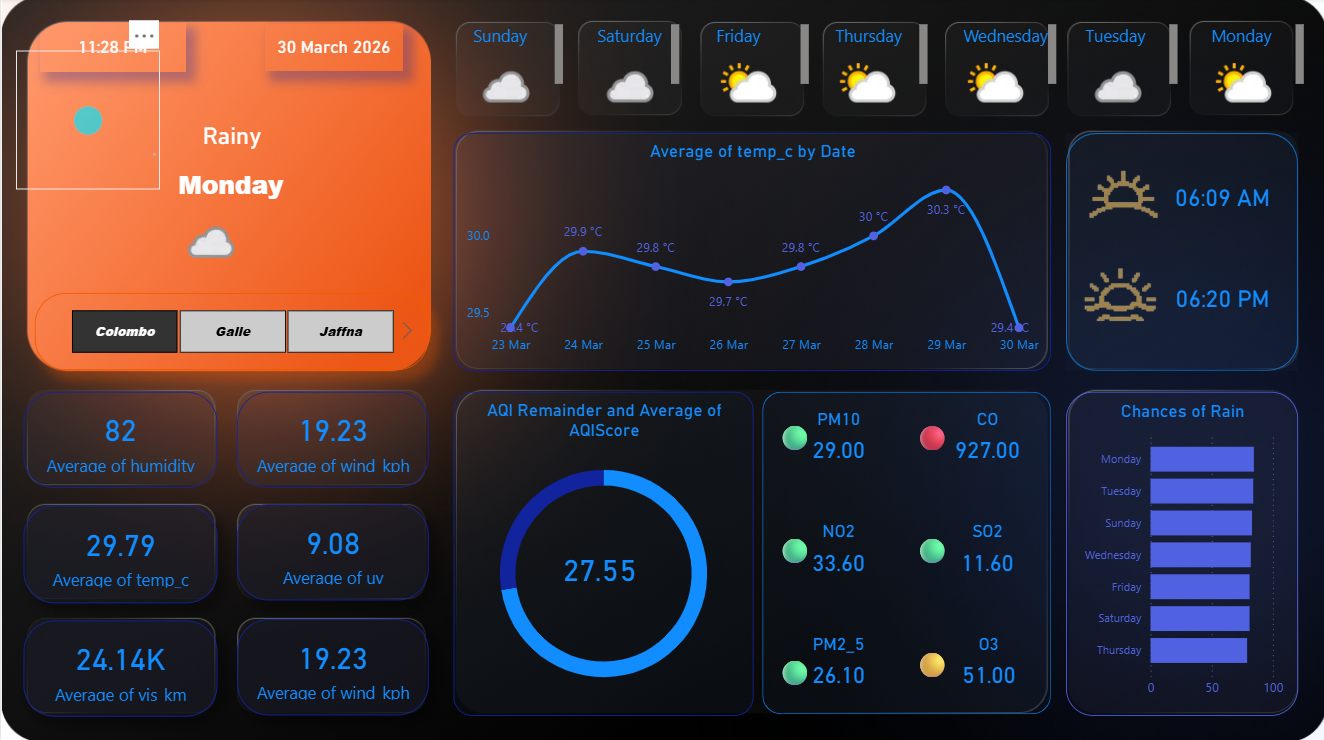

This screenshot's page, from the dashboard's own definition file:
{"tool":"powerbi","page":{"name":"Page 1","canvas":[1280,720],"ordinal":0},"visuals":[{"type":"card","fields":{"Values":["Avg(Query1.humidity)"]},"box":[21.7,380,183.4,92.9],"z":0},{"type":"card","fields":{"Values":["Avg(Query1.temp_c)"]},"box":[21.7,488.6,183.4,94.1],"z":1000},{"type":"card","fields":{"Values":["Avg(Query1.wind_kph)"]},"box":[228,380,183.4,92.9],"z":2000},{"type":"card","fields":{"Values":["Avg(Query1.uv)"]},"box":[228,488.6,183.4,92.9],"z":3000},{"type":"card","fields":{"Values":["Avg(Query1.wind_kph)"]},"box":[228,599.6,183.4,92.9],"z":4000},{"type":"card","fields":{"Values":["Avg(Query1.vis_km)"]},"box":[21.7,597.2,183.4,94.1],"z":5000},{"type":"slicer","fields":{"Values":["Query1.City"]},"box":[31.4,285.9,380,74.8],"z":6000},{"type":"multiRowCard","fields":{"Values":["Query1.DayName","Query1.IconURL","Avg(Query1.temp_c)"]},"box":[451.1,20.6,96.3,97.6],"z":7000},{"type":"multiRowCard","fields":{"Values":["Query1.DayName","Query1.IconURL","Avg(Query1.temp_c)"]},"box":[570.7,20.6,89.4,97.6],"z":8000},{"type":"multiRowCard","fields":{"Values":["Query1.DayName","Query1.IconURL","Avg(Query1.temp_c)"]},"box":[684.8,20.6,99,97.6],"z":9000},{"type":"multiRowCard","fields":{"Values":["Query1.DayName","Query1.IconURL","Avg(Query1.temp_c)"]},"box":[800.3,20.6,99,97.6],"z":10000},{"type":"multiRowCard","fields":{"Values":["Query1.DayName","Query1.IconURL","Avg(Query1.temp_c)"]},"box":[924.1,20.6,99,97.6],"z":11000},{"type":"multiRowCard","fields":{"Values":["Query1.DayName","Query1.IconURL","Avg(Query1.temp_c)"]},"box":[1041,20.6,99,97.6],"z":12000},{"type":"multiRowCard","fields":{"Values":["Query1.DayName","Query1.IconURL","Avg(Query1.temp_c)"]},"box":[1163.4,20.6,99,97.6],"z":13000},{"type":"lineChart","fields":{"Category":["Query1.Date"],"Y":["Avg(Query1.temp_c)"]},"box":[442.4,126.6,570.4,233.7],"z":14000},{"type":"card","fields":{"Values":["ForecastTable.Live Time"]},"box":[21.7,21.7,140.7,47.4],"z":15000},{"type":"card","fields":{"Values":["ForecastTable.Live Date"]},"box":[276.1,20.3,134,46],"z":16000},{"type":"multiRowCard","fields":{"Values":["Query1.DayName","Query1.IconURL"]},"box":[165.3,150.8,112.2,125.5],"z":17000},{"type":"clusteredBarChart","title":"Chances of Rain","fields":{"Category":["Query1.DayName"],"Y":["Avg(Query1.humidity)"]},"box":[1028.2,379.8,224,313],"z":18000},{"type":"shape","box":[1028.2,126.6,224,233.7],"z":19000},{"type":"image","box":[1013.7,150.2,138,83.9],"z":20000},{"type":"image","box":[1013.7,247.7,138,83.9],"z":21000},{"type":"card","fields":{"Values":["Min(Query1.Sunrise)"]},"box":[1117.9,158.3,121.8,67.7],"z":22000},{"type":"card","fields":{"Values":["Min(Query1.Sunset)"]},"box":[1117.9,255.8,121.8,67.7],"z":23000},{"type":"donutChart","fields":{"Y":["Query1.AQI Remainder","Avg(Query1.AQIScore)"]},"box":[442.8,380,284.7,312.5],"z":24000},{"type":"card","fields":{"Values":["Avg(Query1.AQIScore)"]},"box":[516.4,520,137.5,94.1],"z":25000},{"type":"card","title":"CO","fields":{"Values":["Avg(Query1.CO)"]},"box":[910.8,395.2,82.6,62.3],"z":26000},{"type":"card","fields":{"Values":["ForecastTable.CO Dot"]},"box":[877,403.3,44.7,46],"z":27000},{"type":"card","fields":{"Values":["ForecastTable.PM10 Dot"]},"box":[744.3,403.3,44.7,46],"z":28000},{"type":"card","title":"NO2","fields":{"Values":["Avg(Query1.NO2)"]},"box":[767.4,504.8,82.6,62.3],"z":29000},{"type":"card","title":"PM2_5","fields":{"Values":["Avg(Query1.PM2_5)"]},"box":[767.4,613.1,82.6,62.3],"z":30000},{"type":"card","title":"SO2","fields":{"Values":["Avg(Query1.SO2)"]},"box":[910.8,504.8,82.6,62.3],"z":31000},{"type":"card","title":"O3","fields":{"Values":["Sum(Query1.O3)"]},"box":[912.2,613.1,82.6,62.3],"z":32000},{"type":"card","title":"PM10","fields":{"Values":["Avg(Query1.PM10)"]},"box":[767.4,395.2,82.6,62.3],"z":33000},{"type":"card","fields":{"Values":["ForecastTable.O3 Dot"]},"box":[877,621.2,44.7,46],"z":34000},{"type":"card","fields":{"Values":["ForecastTable.PM2.5 Dot"]},"box":[744.3,629.3,44.7,46],"z":35000},{"type":"card","fields":{"Values":["ForecastTable.SO2 Dot"]},"box":[877,511.6,44.7,46],"z":36000},{"type":"card","fields":{"Values":["ForecastTable.NO2 Dot"]},"box":[744.3,511.6,44.7,46],"z":37000},{"type":"shape","box":[734.7,380,278.7,311.3],"z":38000},{"type":"card","fields":{"Values":["Min(Query1.Status)"]},"box":[125.5,68.8,193,106.2],"z":39000},{"type":"image","box":[22.3,66.8,130.8,98.8],"z":40000}]}

Visuals, with their boxes in screenshot pixels (x1, y1, x2, y2), scaled from the page's 1280x720 canvas onto the 1324x740 screenshot:
card - Avg(Query1.humidity): 22/391/212/486
card - Avg(Query1.temp_c): 22/502/212/599
card - Avg(Query1.wind_kph): 236/391/426/486
card - Avg(Query1.uv): 236/502/426/598
card - Avg(Query1.wind_kph): 236/616/426/712
card - Avg(Query1.vis_km): 22/614/212/711
slicer - Query1.City: 32/294/426/371
multiRowCard - Query1.DayName x Query1.IconURL: 467/21/566/121
multiRowCard - Query1.DayName x Query1.IconURL: 590/21/683/121
multiRowCard - Query1.DayName x Query1.IconURL: 708/21/811/121
multiRowCard - Query1.DayName x Query1.IconURL: 828/21/930/121
multiRowCard - Query1.DayName x Query1.IconURL: 956/21/1058/121
multiRowCard - Query1.DayName x Query1.IconURL: 1077/21/1179/121
multiRowCard - Query1.DayName x Query1.IconURL: 1203/21/1306/121
lineChart - Query1.Date x Avg(Query1.temp_c): 458/130/1048/370
card - ForecastTable.Live Time: 22/22/168/71
card - ForecastTable.Live Date: 286/21/424/68
multiRowCard - Query1.DayName x Query1.IconURL: 171/155/287/284
"Chances of Rain" clusteredBarChart: 1064/390/1295/712
shape: 1064/130/1295/370
image: 1049/154/1191/241
image: 1049/255/1191/341
card - Min(Query1.Sunrise): 1156/163/1282/232
card - Min(Query1.Sunset): 1156/263/1282/332
donutChart - Query1.AQI Remainder x Avg(Query1.AQIScore): 458/391/753/712
card - Avg(Query1.AQIScore): 534/534/676/631
"CO" card: 942/406/1028/470
card - ForecastTable.CO Dot: 907/415/953/462
card - ForecastTable.PM10 Dot: 770/415/816/462
"NO2" card: 794/519/879/583
"PM2_5" card: 794/630/879/694
"SO2" card: 942/519/1028/583
"O3" card: 944/630/1029/694
"PM10" card: 794/406/879/470
card - ForecastTable.O3 Dot: 907/638/953/686
card - ForecastTable.PM2.5 Dot: 770/647/816/694
card - ForecastTable.SO2 Dot: 907/526/953/573
card - ForecastTable.NO2 Dot: 770/526/816/573
shape: 760/391/1048/711
card - Min(Query1.Status): 130/71/329/180
image: 23/69/158/170
